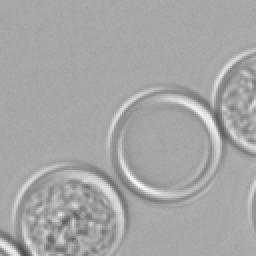picoshell: (106, 88, 220, 202), (12, 162, 126, 254), (210, 48, 254, 154), (0, 232, 24, 254), (248, 178, 254, 230)
